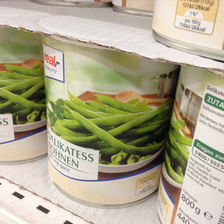beans: (38, 31, 167, 211)
